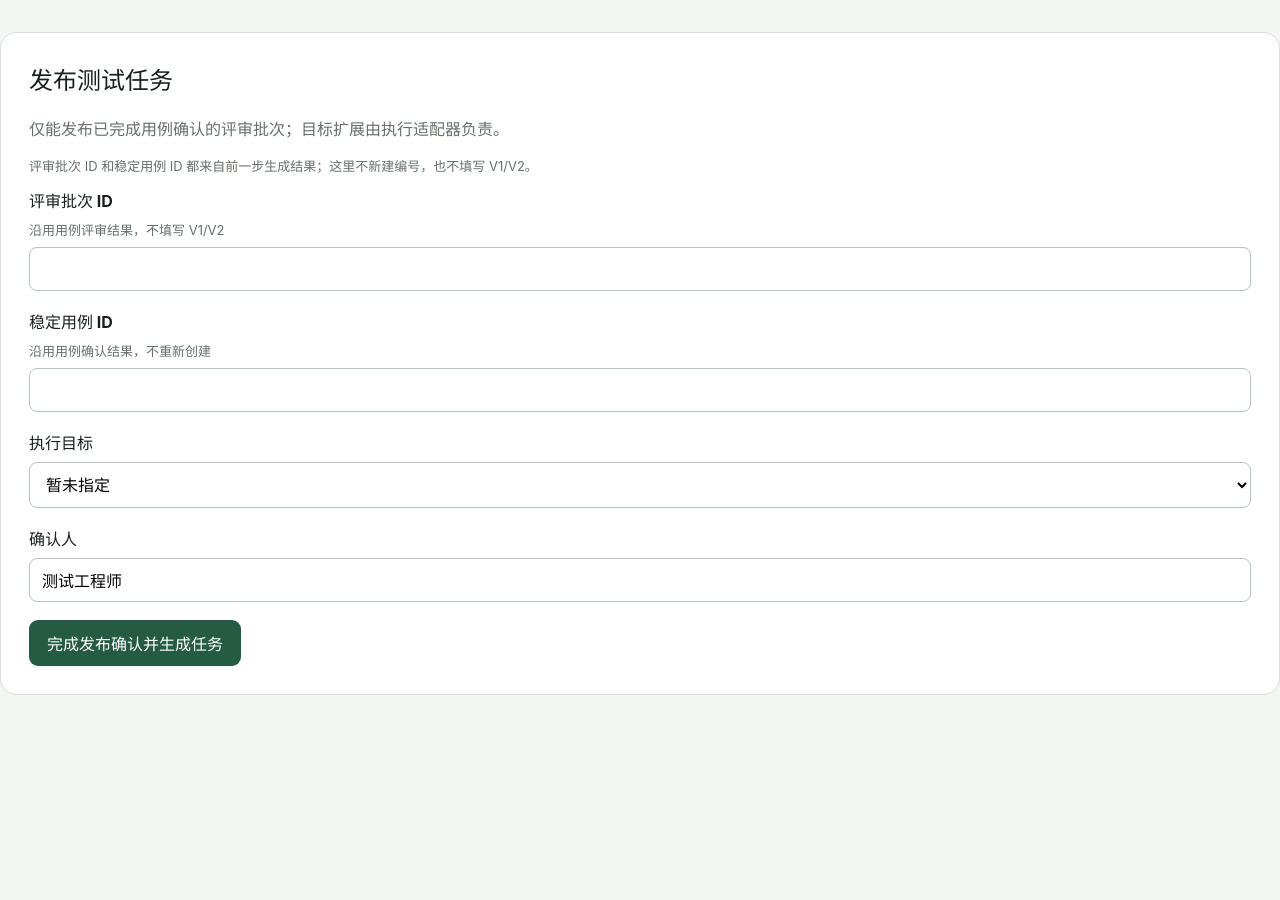
it: 测试工程师可以完成发布确认并看到版本化通用测试任务
The image size is (1280, 900).
Type "2" into the field labelled "评审批次 ID". click: (640, 269)
box: 29,247 -> 1251,291
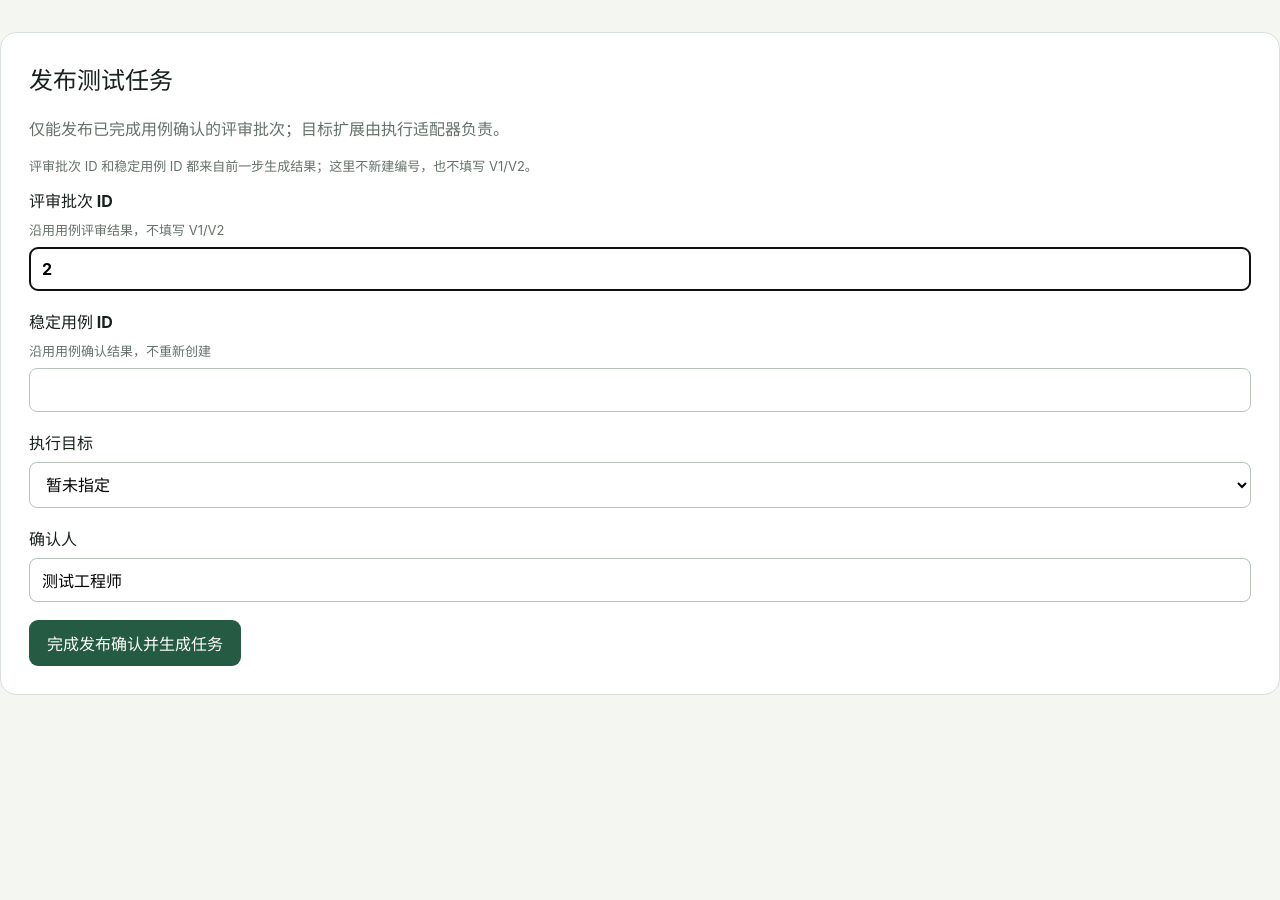
Type "case-demo" into the field labelled "稳定用例 ID". click: (640, 390)
box: 29,368 -> 1251,412
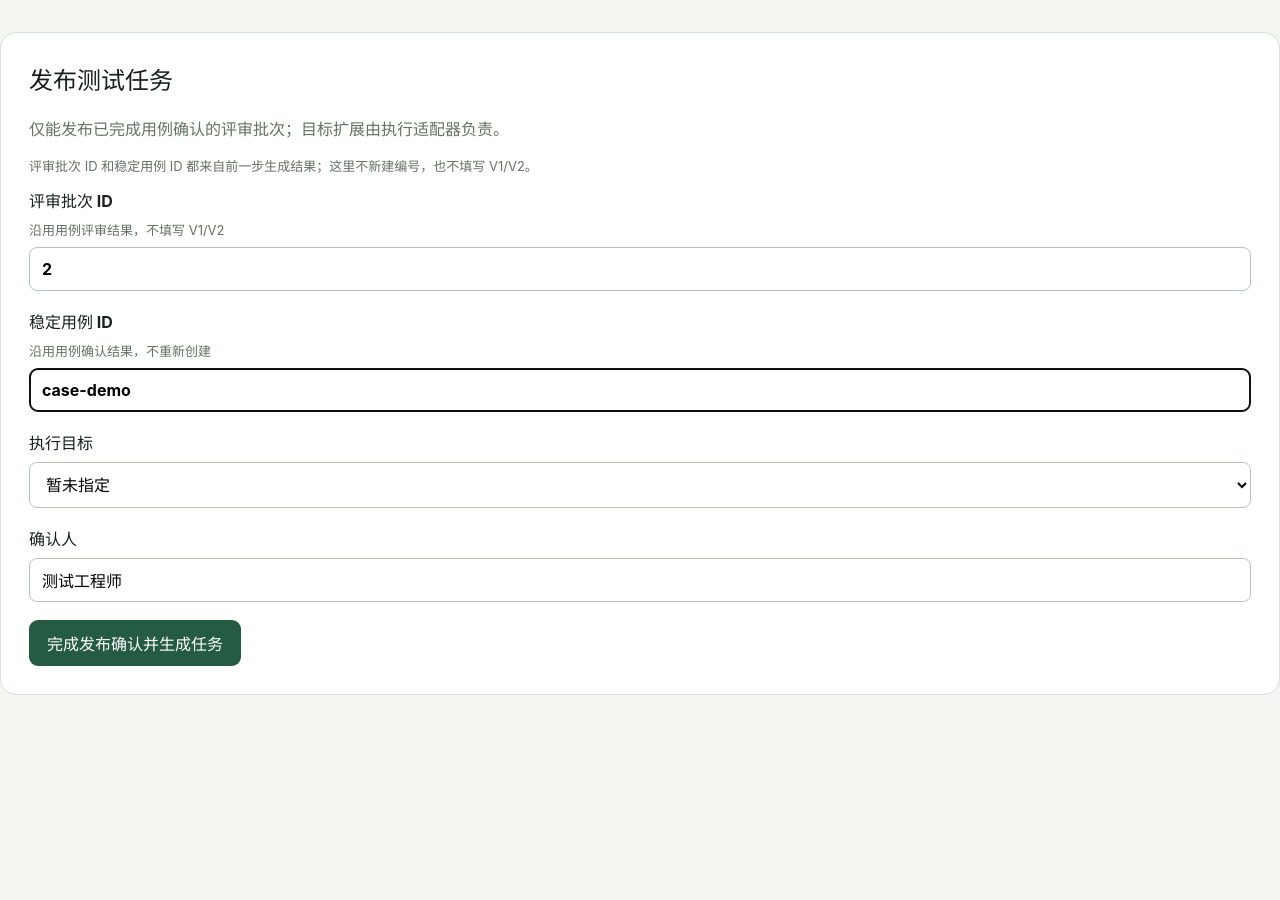
Select "测试执行与诊断平台" in the dropdown labelled "执行目标". click: (640, 485)
box: 29,462 -> 1251,508
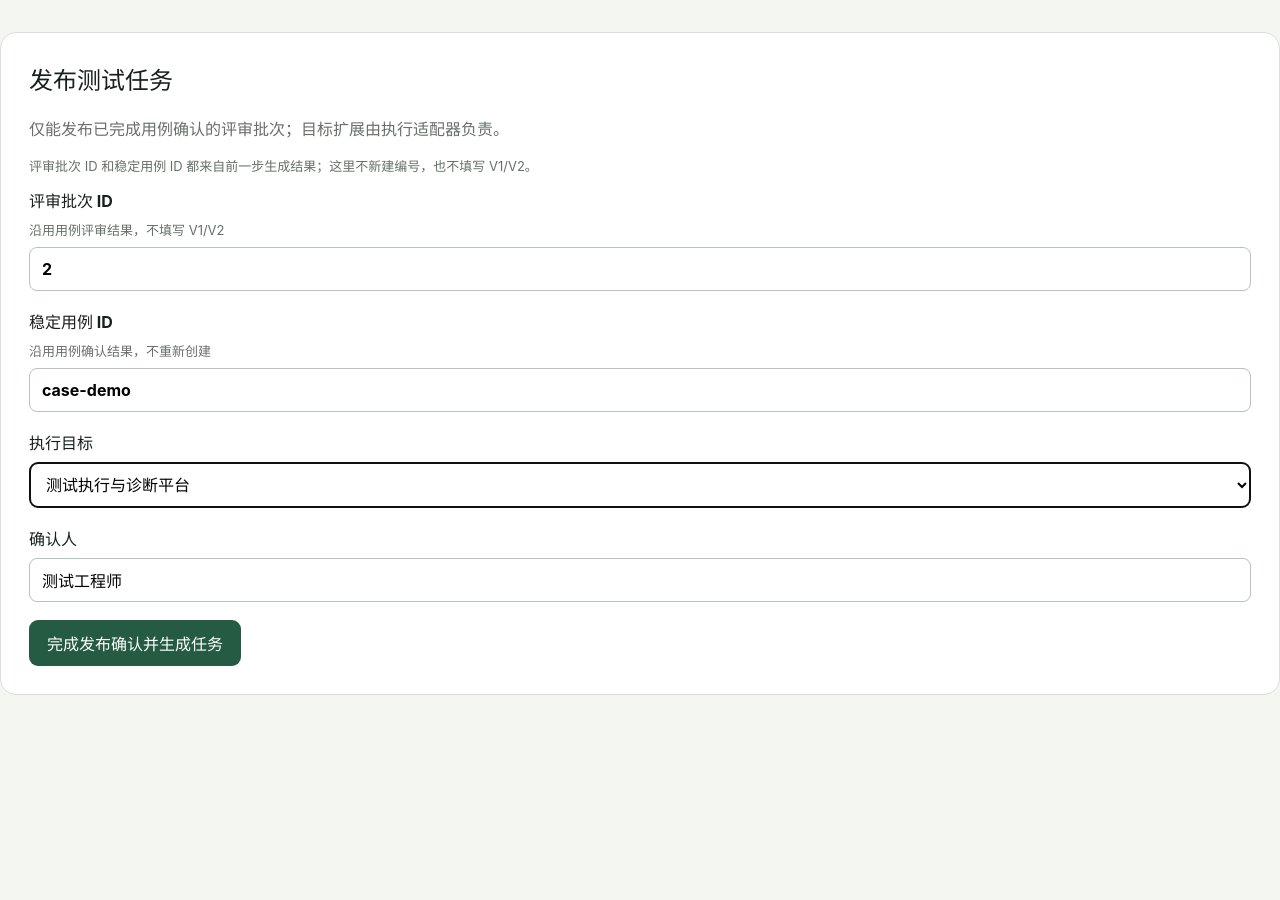
Click the button "完成发布确认并生成任务". click: (135, 643)
box: 29,620 -> 241,666
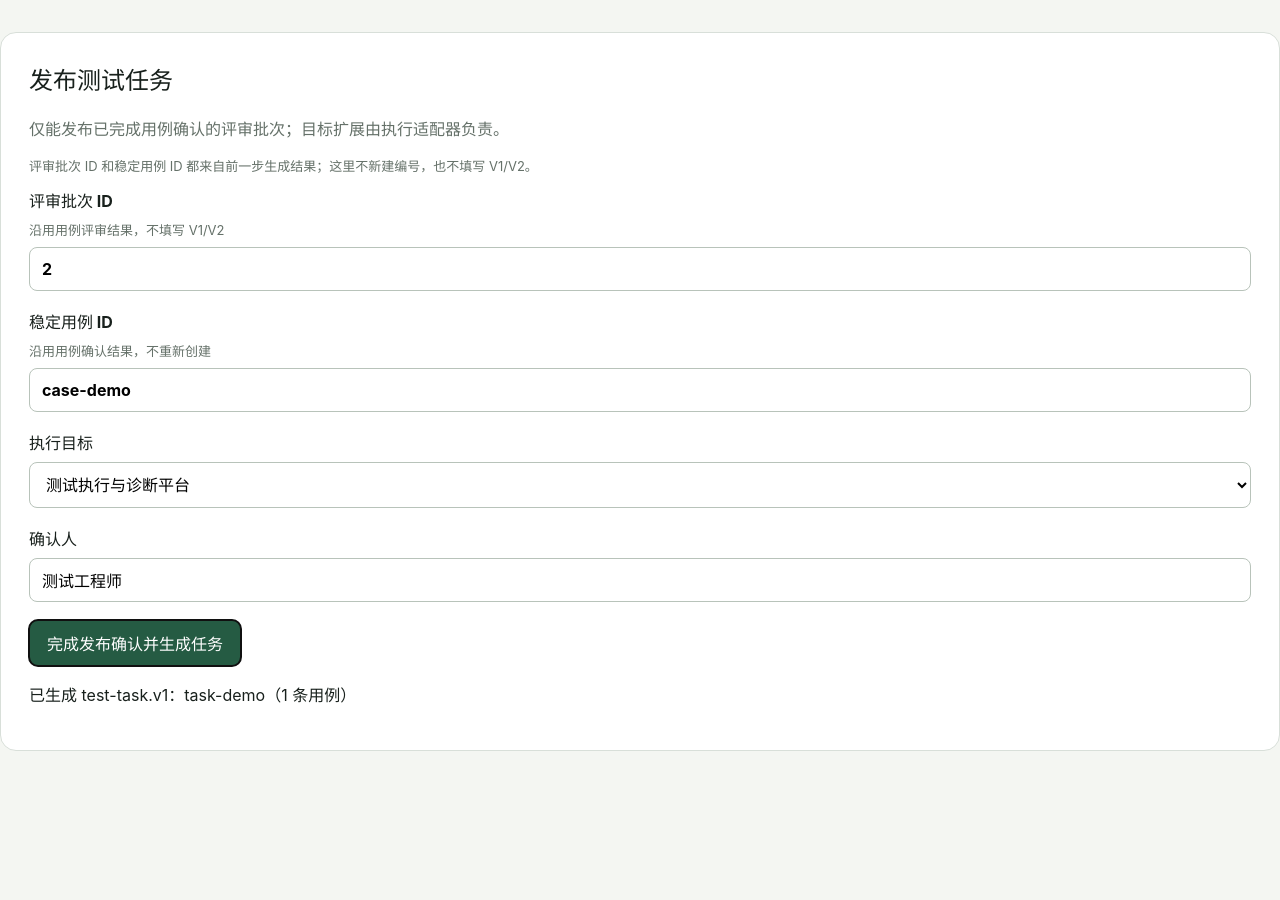
Now the message shows "test-task.v1", box 82,685 -> 168,705
